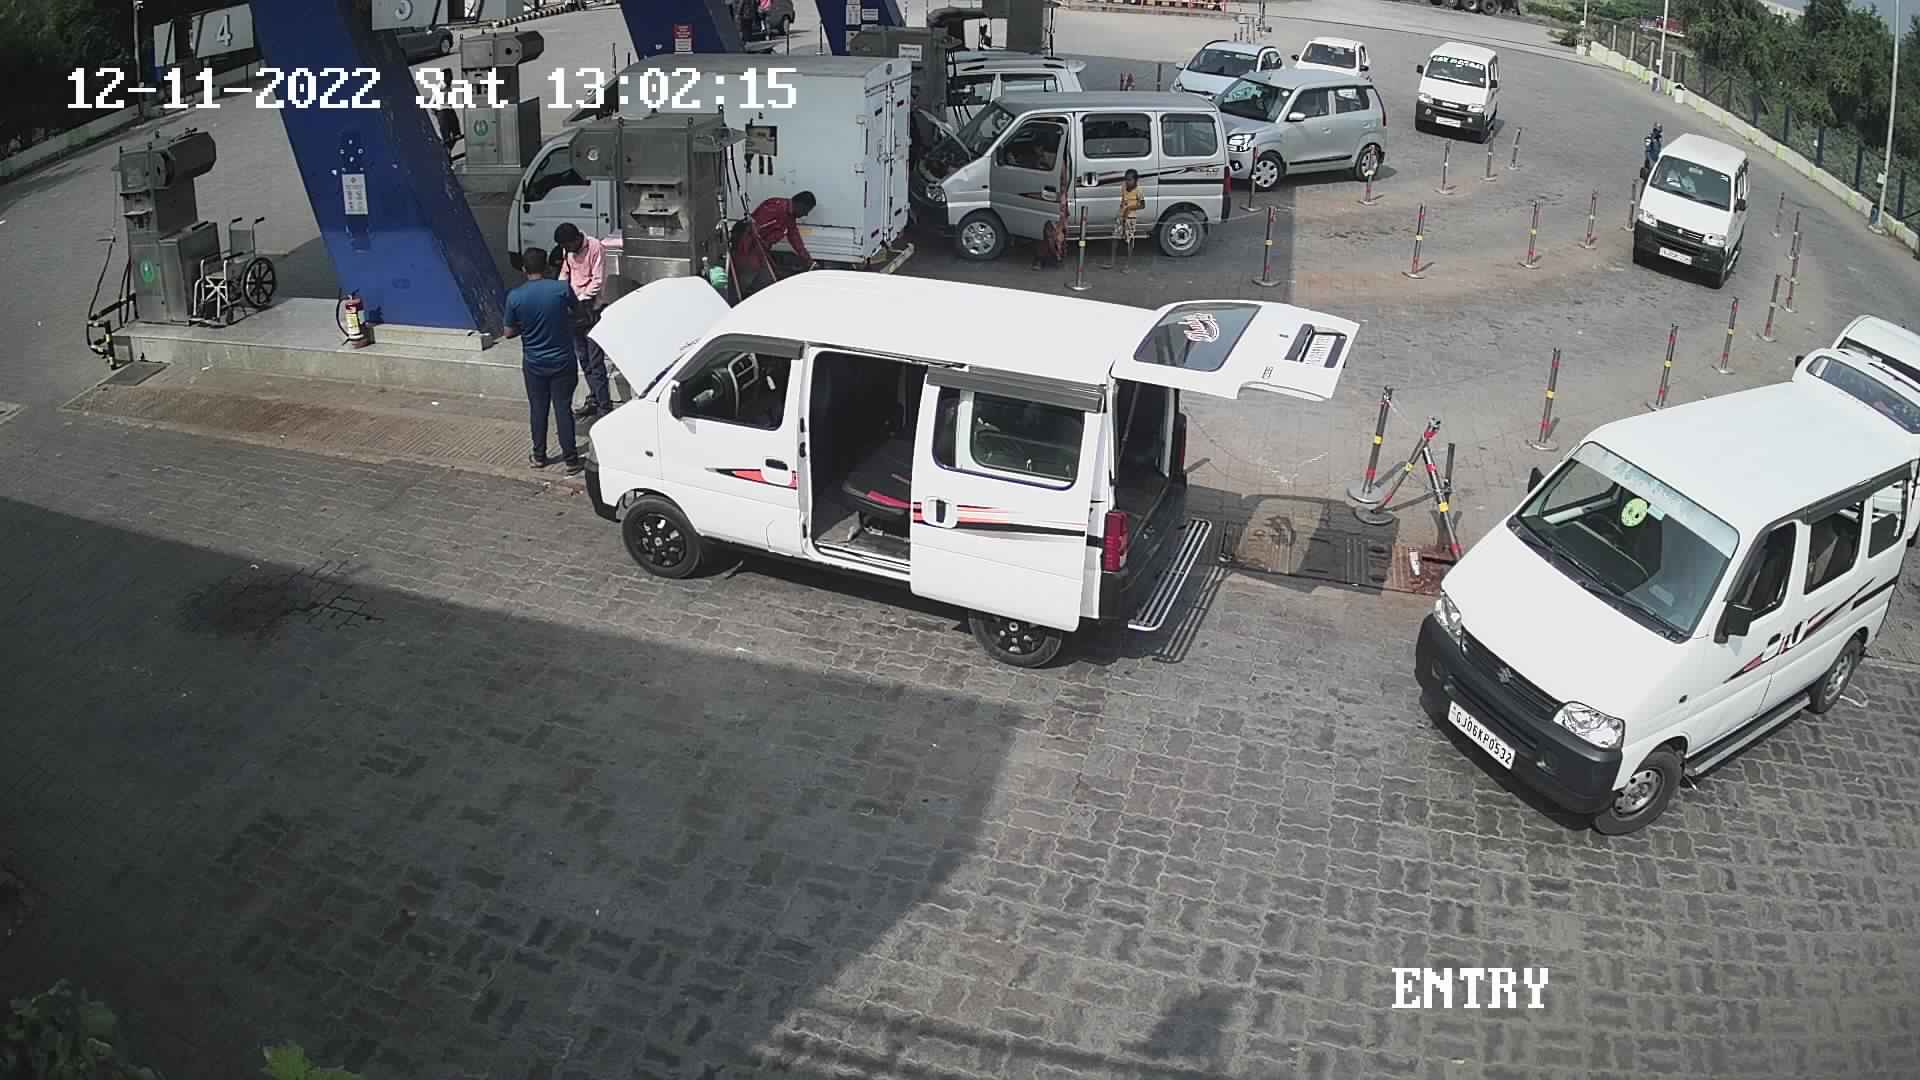Car: (575, 262, 1364, 680), (1400, 339, 1917, 837), (906, 84, 1240, 274), (705, 46, 919, 284), (1782, 307, 1917, 566), (1613, 115, 1760, 293), (1199, 61, 1387, 193), (931, 36, 1092, 140), (1400, 28, 1515, 146), (1160, 33, 1283, 109), (1286, 26, 1379, 84)
